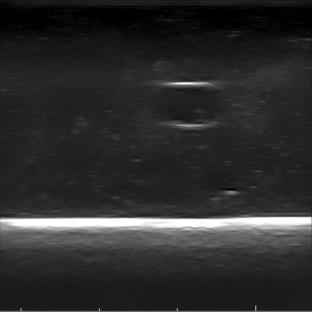vessel: (150, 81, 225, 131)
